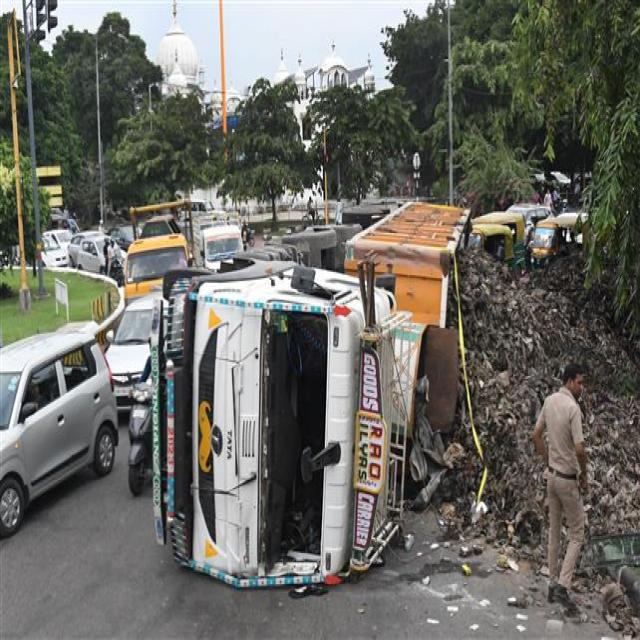accident: (150, 201, 469, 586)
car: (0, 323, 119, 535)
